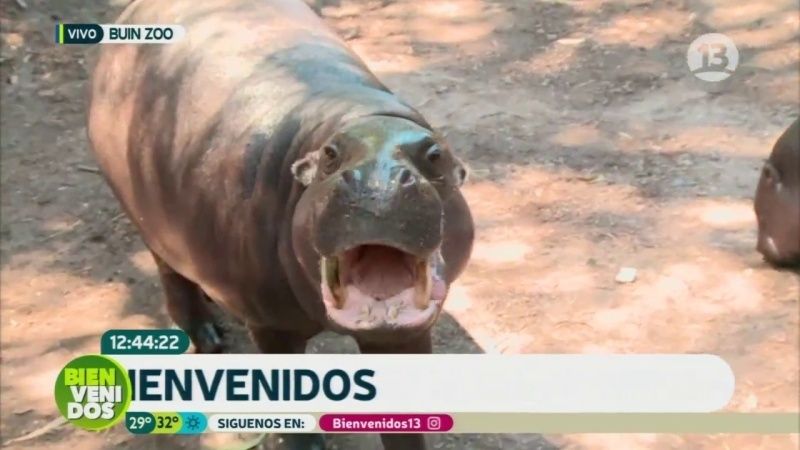hipopotamo: (73, 2, 511, 353)
